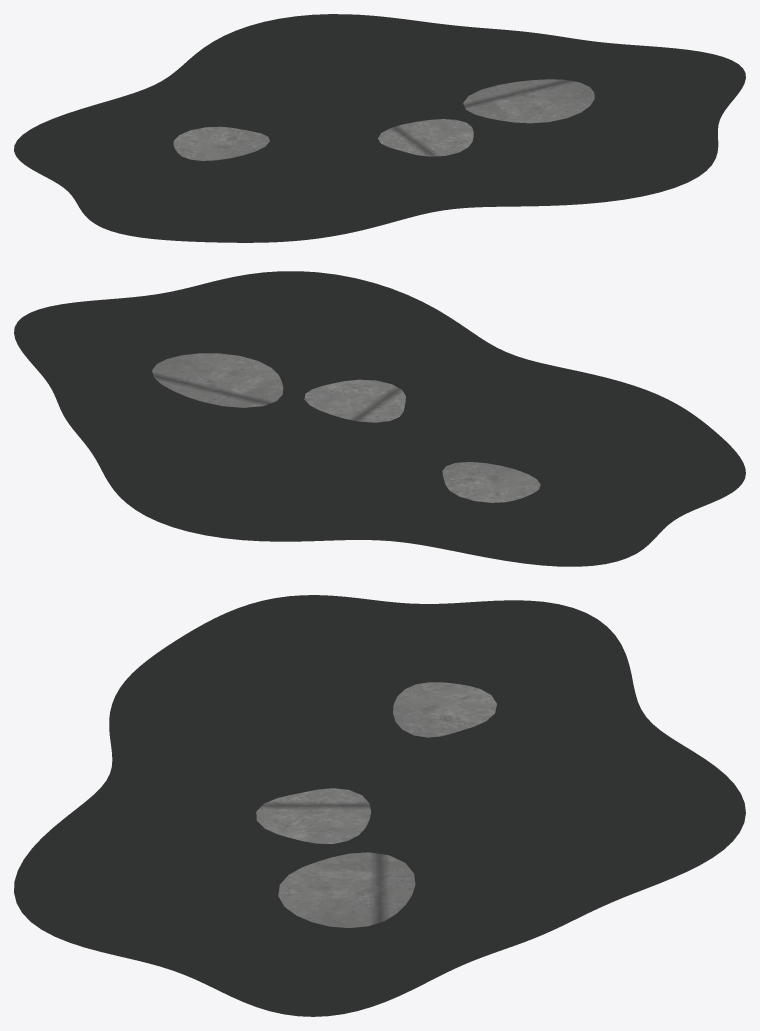
The model's file is tunnel_puddle.gltf.
The picture shows the model from 3 angles, top to bottom: view 1: azimuth 30°, elevation 25°; view 2: azimuth 150°, elevation 25°; view 3: azimuth 270°, elevation 25°; orthographic projection. The views are drawn at different scales.
Parts seen in each view (by area): view 1: TunnelPuddle_Water_NoCollide, TunnelPuddle_Islands_NoCollide; view 2: TunnelPuddle_Water_NoCollide, TunnelPuddle_Islands_NoCollide; view 3: TunnelPuddle_Water_NoCollide, TunnelPuddle_Islands_NoCollide.
Part boxes in pixels (x1,y1,x2,y2): TunnelPuddle_Water_NoCollide: (14,14,745,242); TunnelPuddle_Islands_NoCollide: (173,79,594,160); TunnelPuddle_Water_NoCollide: (14,271,745,566); TunnelPuddle_Islands_NoCollide: (152,353,540,502); TunnelPuddle_Water_NoCollide: (14,595,745,1016); TunnelPuddle_Islands_NoCollide: (256,682,496,927).
Bounding box in the file's own units: 3 × 0.0015 × 2.2.
Materials: 2 (1 with a texture image).
